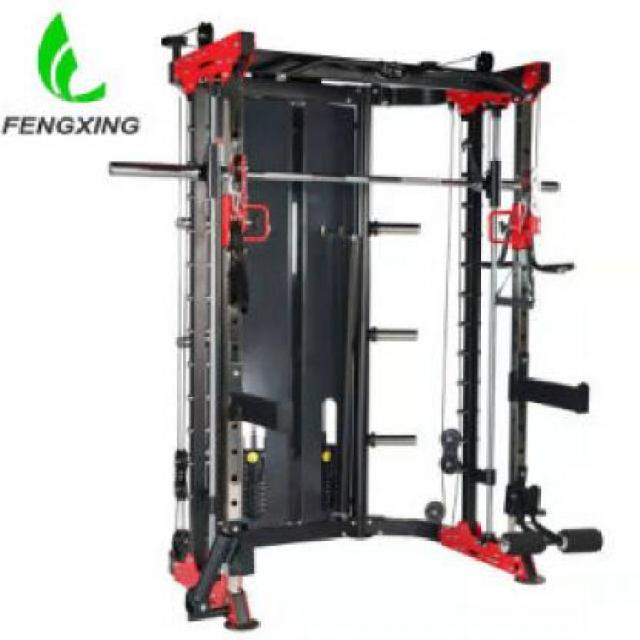smith machine: (159, 18, 603, 630)
